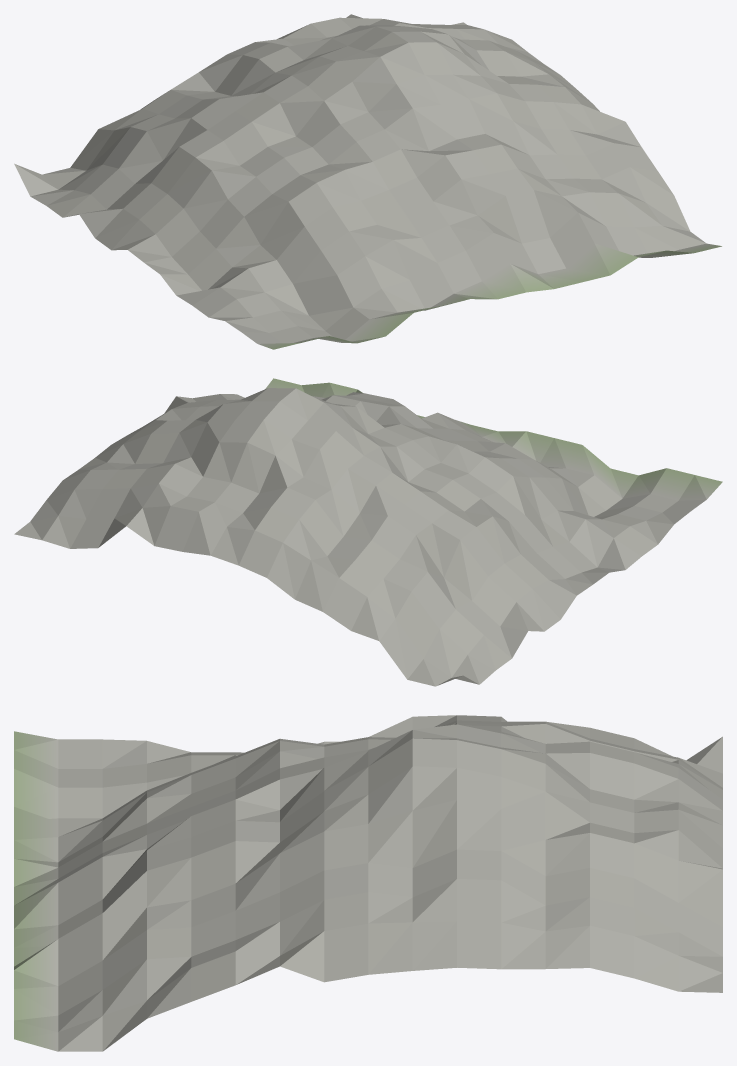
3 renders of one model, top to bottom at view 1: azimuth 30°, elevation 25°; view 2: azimuth 150°, elevation 25°; view 3: azimuth 270°, elevation 25°, orthographic. The views are drawn at different scales.
Bounding box in the file's own units: 32 × 10.71 × 32.
